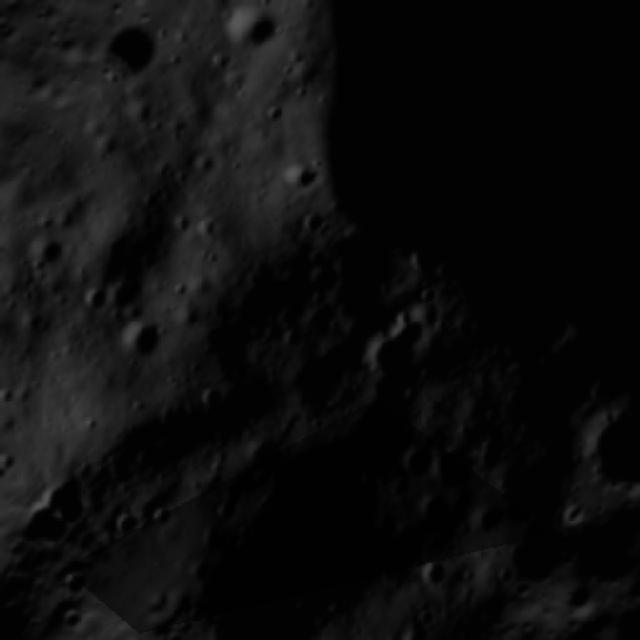crater: (212, 0, 297, 71), (33, 455, 110, 530), (421, 431, 493, 504), (266, 141, 336, 214), (110, 300, 179, 368), (387, 430, 448, 492), (18, 220, 78, 280), (410, 478, 462, 531), (411, 550, 462, 601), (138, 487, 188, 538), (72, 272, 122, 323), (102, 497, 152, 546), (248, 614, 328, 640)
